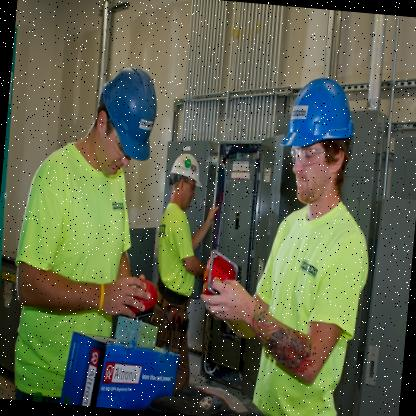capacete: (273, 69, 361, 210), (90, 58, 162, 185), (165, 149, 207, 215)
sem_colete_refletivo: (3, 144, 148, 404), (244, 201, 376, 415), (150, 201, 206, 304)
